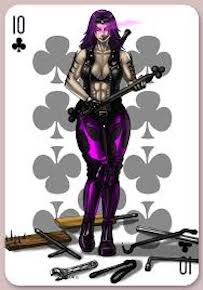TenOfClubs: (4, 2, 198, 286)
